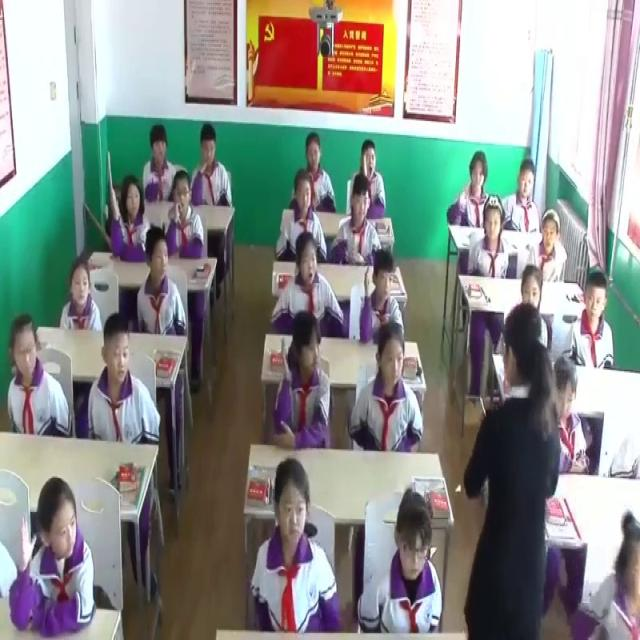distracted: (354, 138, 386, 220)
focused: (252, 457, 334, 637), (362, 485, 440, 636), (350, 322, 423, 459), (90, 316, 163, 444), (5, 321, 72, 442), (273, 234, 345, 339), (136, 230, 186, 344), (571, 268, 617, 376), (446, 153, 502, 232), (278, 175, 325, 266), (333, 175, 381, 262), (193, 124, 233, 214), (468, 199, 510, 280), (522, 208, 565, 286), (168, 166, 202, 259), (299, 133, 338, 213), (512, 265, 550, 346), (503, 154, 542, 232), (64, 262, 103, 336), (144, 125, 179, 207)
raising_hand: (11, 478, 96, 631), (270, 312, 333, 460), (359, 244, 404, 347), (107, 175, 154, 262)
